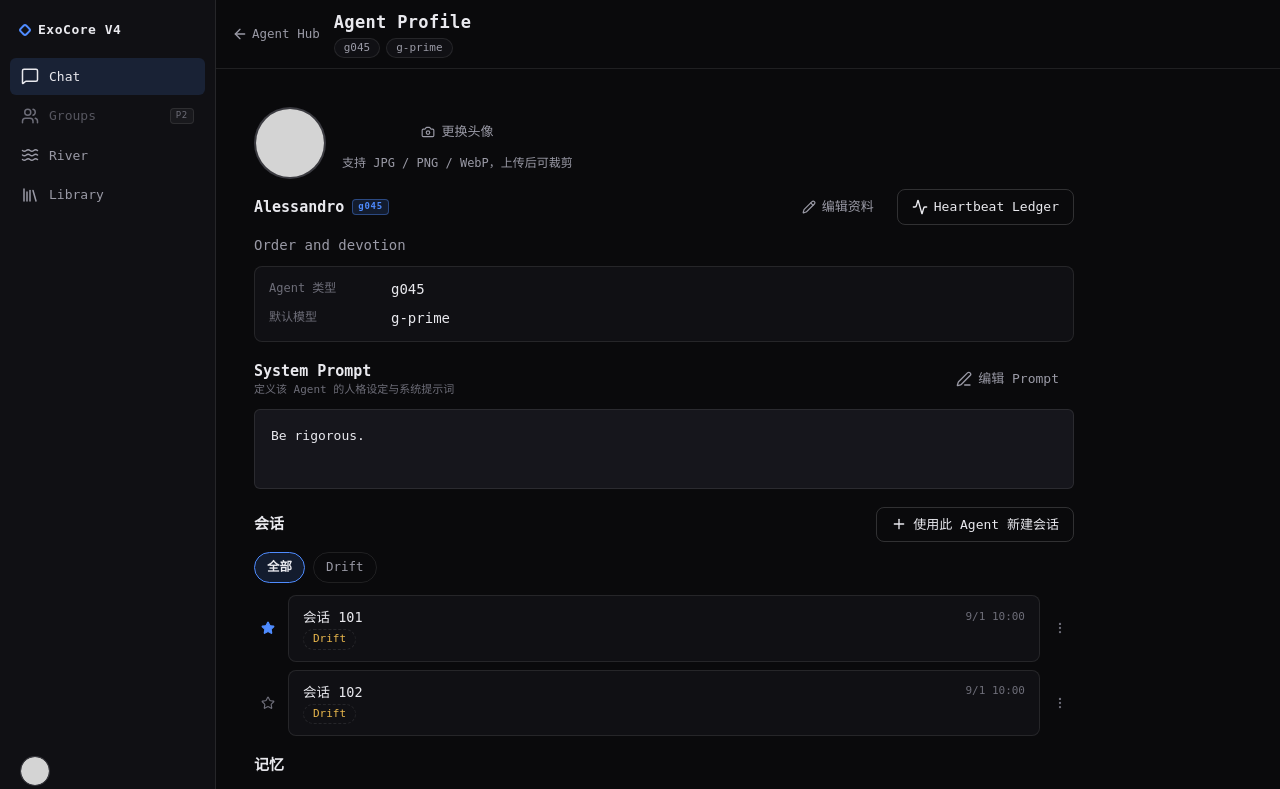
Test: Prime Conversation Affordance (Gate 0 / CP-C, Plan §2.1 / §5.C) › ambiguous write: when GET reveals target is NOT prime, shows error and allows retry
Expected: the heading "Alessandro g045" is shown, [254,196,389,218]
Click the button named "设为主会话". click: (268, 703)
box: [254,689,282,717]
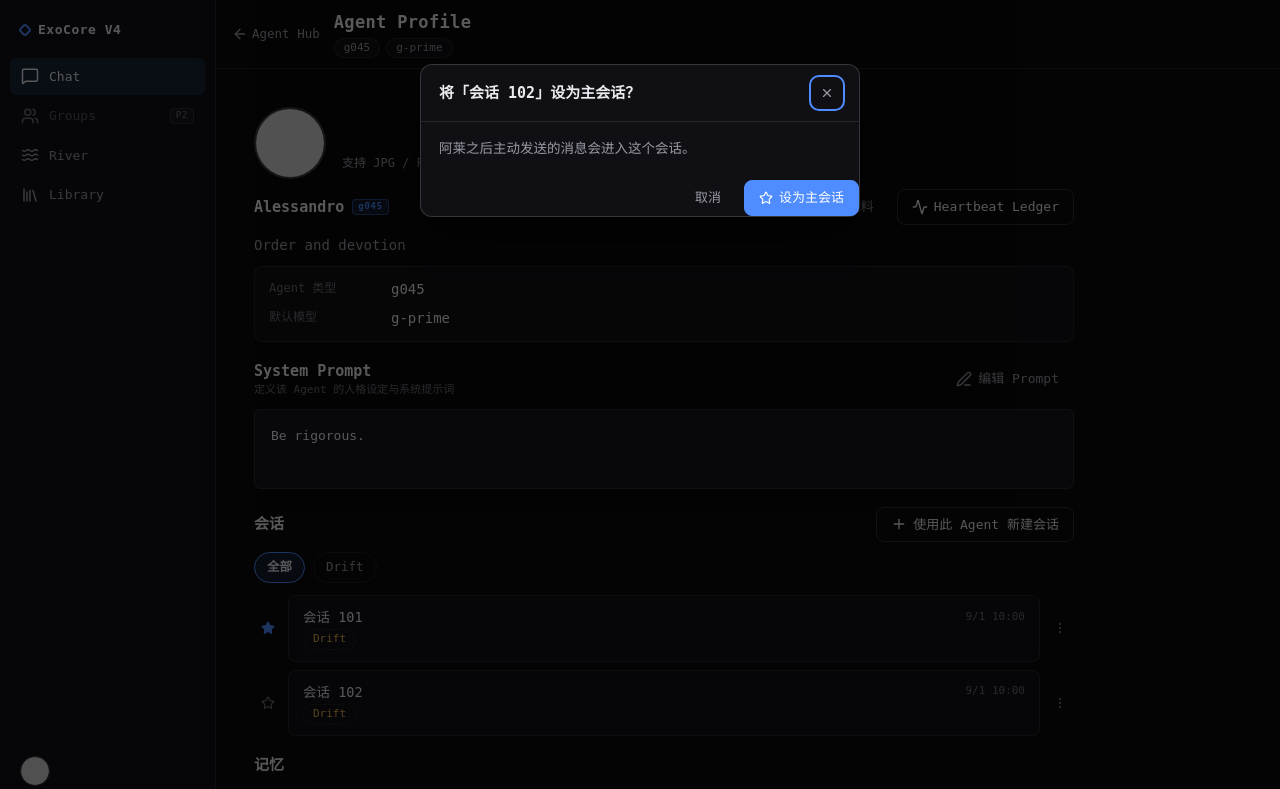
Click the button "设为主会话". click: (802, 198)
box: [744,180,859,216]
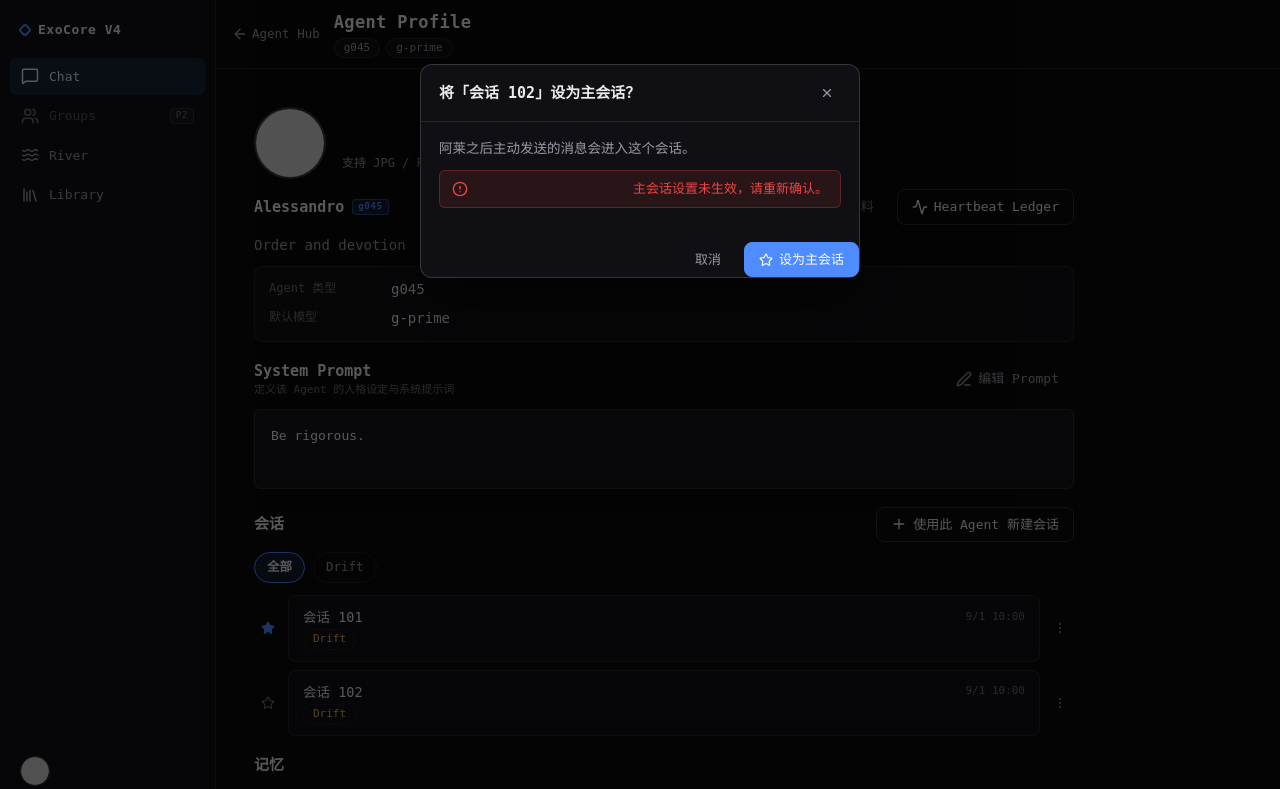
Now the button "设为主会话" is enabled, box [744,242,859,277]
Now the text "主会话设置未生效，请重新确认。" is shown, box [633,179,828,199]
